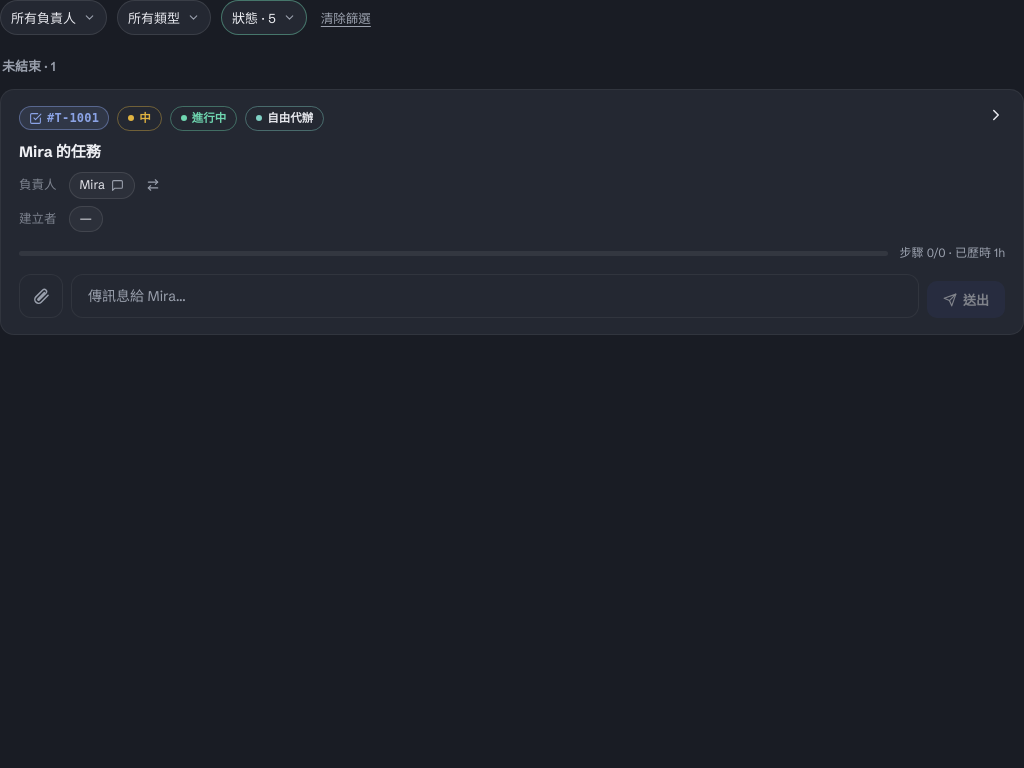
Test case: TaskCard 轉派 entry + dialog › never offers the task's CURRENT executor as a target
Click the button with test id "task-reassign". click: (153, 185)
box: [141,173,165,197]
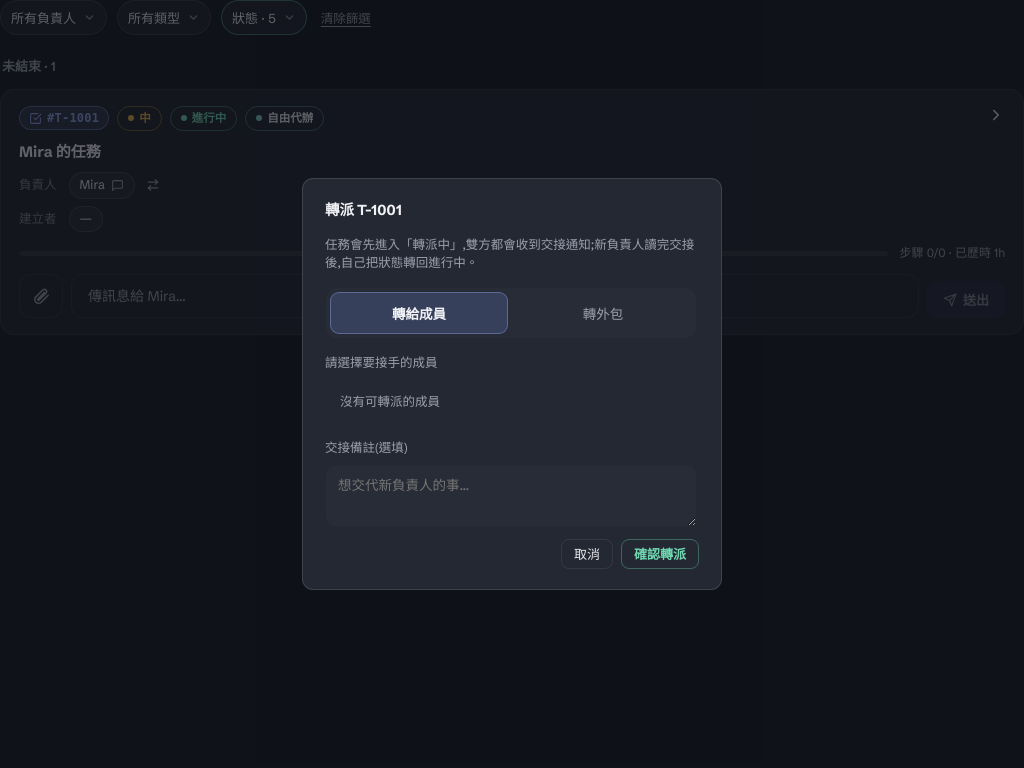
Check: the text "沒有可轉派的成員" is shown, box [325,380,697,424]
